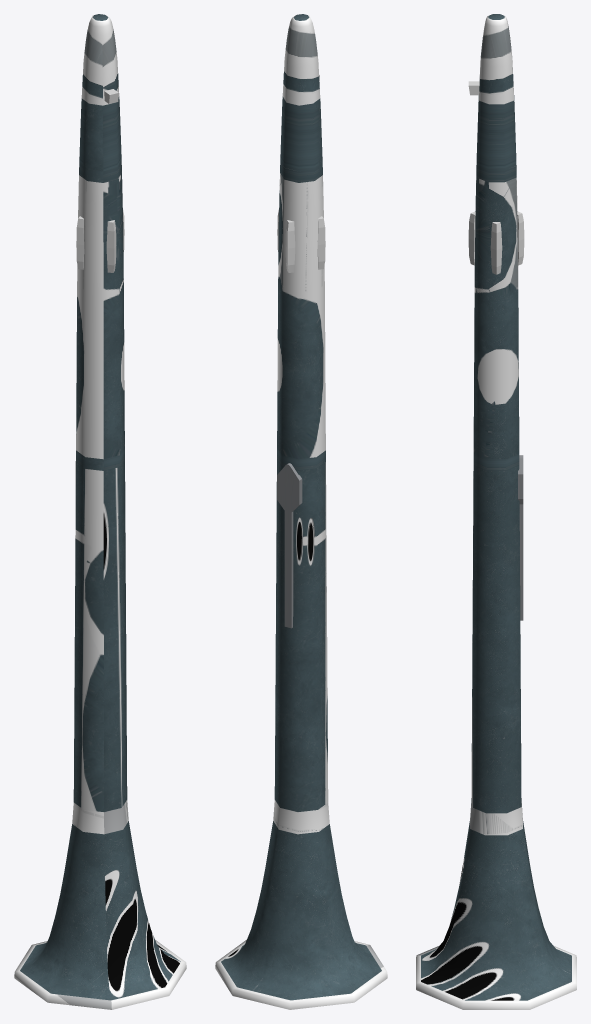
The model's file is clarinet.fbx.
3 renders of one model, left to right at view 1: azimuth 30°, elevation 25°; view 2: azimuth 150°, elevation 25°; view 3: azimuth 270°, elevation 25°, orthographic.
Parts seen in each view (by area): view 1: body.001; view 2: body.001; view 3: body.001.
Boxes of the visible parts, x1,y1,x2,y2 form: body.001: (14,14,186,1009); body.001: (215,14,387,1009); body.001: (416,14,576,1009).
Size of the model in its own units: 69 by 453 by 69.
